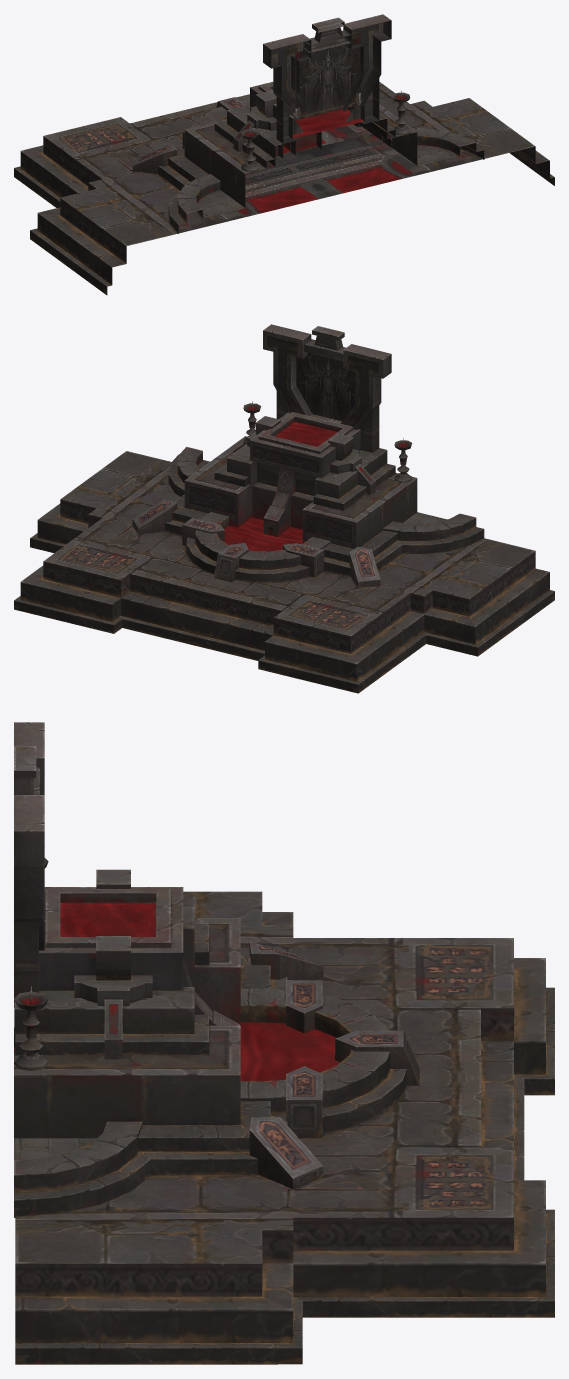
Rendered from 2_BTT_ShiTouJiTai_01.FBX.
3 renders of one model, top to bottom at view 1: azimuth 30°, elevation 25°; view 2: azimuth 150°, elevation 25°; view 3: azimuth 270°, elevation 25°, orthographic. The views are drawn at different scales.
Visible parts, largest first — view 1: 2_BTT_ShiTouJiTai_01; view 2: 2_BTT_ShiTouJiTai_01; view 3: 2_BTT_ShiTouJiTai_01.
Part boxes in pixels (x1=…): 2_BTT_ShiTouJiTai_01: x1=14, y1=14, x2=554, y2=295; 2_BTT_ShiTouJiTai_01: x1=14, y1=324, x2=554, y2=693; 2_BTT_ShiTouJiTai_01: x1=14, y1=722, x2=554, y2=1364.
Bounding box in the file's own units: 588 × 271 × 330.
